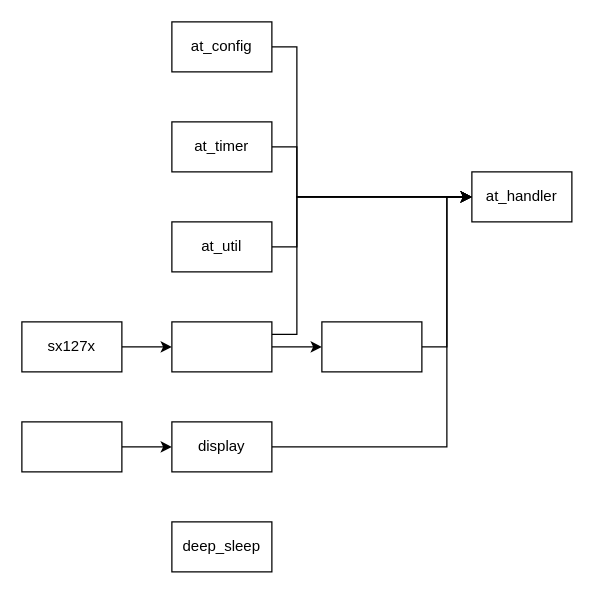
Image size: 594x594. Some labels were removed from this diagram. The box of each missing label's shape, as (x1, y1, x2, y2) in pixels:
ble_client: (321, 321, 422, 372)
ssd1306: (21, 421, 122, 472)
sx127x_util: (171, 321, 272, 372)
